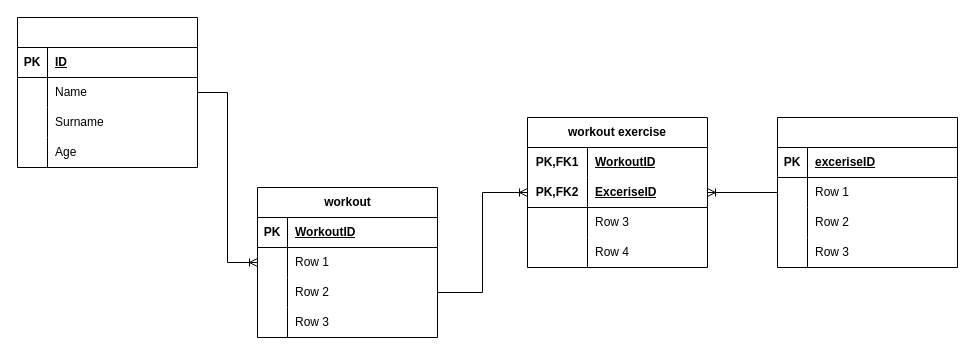
This 975x355 diagram has some shape labels left out. The shapes that lost their labels are listed below. From the top down, each one's box as (x1, y1, x2, y2) in pixels, then its label:
(16, 16, 198, 168): User
(776, 116, 958, 268): exercise
